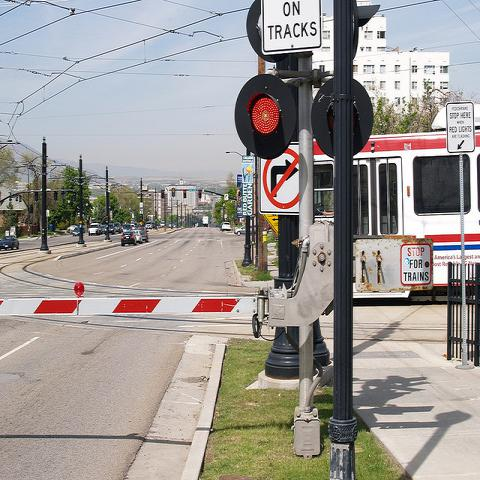car: (64, 215, 176, 233), (0, 236, 20, 250), (121, 231, 137, 248), (136, 228, 149, 241), (88, 222, 100, 236), (103, 222, 116, 234), (132, 230, 142, 243), (234, 225, 245, 236), (114, 222, 122, 234), (122, 223, 132, 232), (221, 222, 231, 230), (145, 221, 153, 229), (130, 223, 137, 230), (73, 228, 79, 236)
